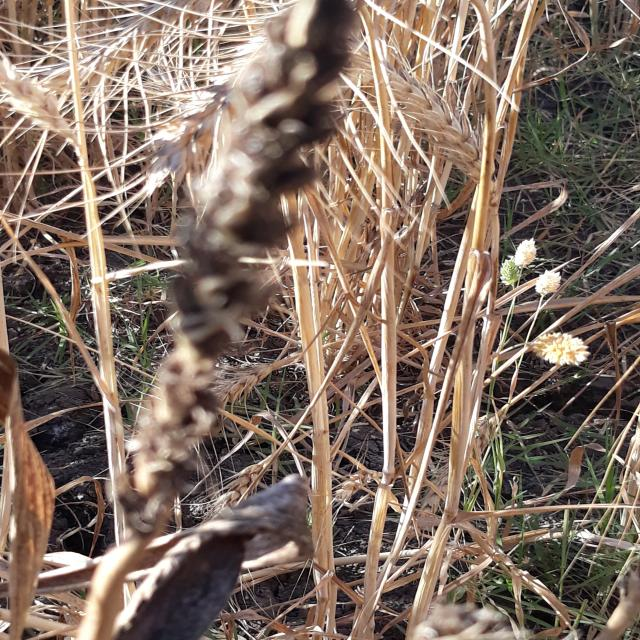loose_charred: (97, 0, 358, 640)
